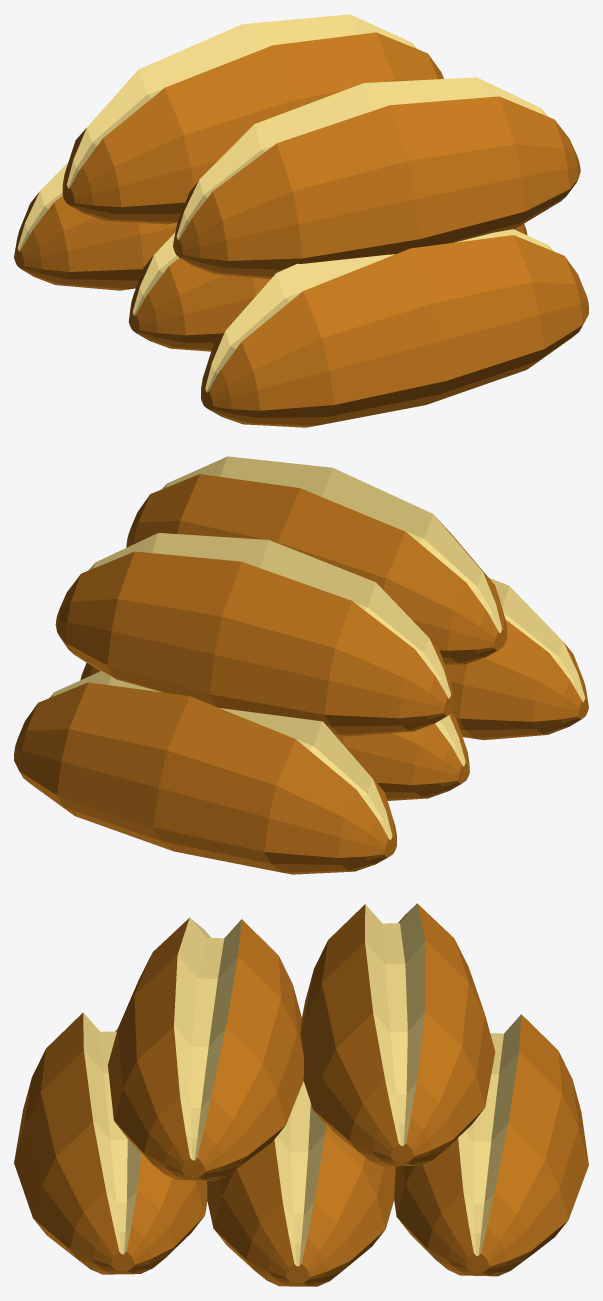
Rendered from SM_Cook_BanhMiPile_01.fbx.
3 views of the same model, one above another, from view 1: azimuth 30°, elevation 25°; view 2: azimuth 150°, elevation 25°; view 3: azimuth 270°, elevation 25° (orthographic). The views are drawn at different scales.
Parts seen in each view (by area): view 1: SM_Cook_BanhMiPile_01; view 2: SM_Cook_BanhMiPile_01; view 3: SM_Cook_BanhMiPile_01.
Boxes of the visible parts, box(x1,y1,x2,y2) form: SM_Cook_BanhMiPile_01: box(14, 14, 588, 427); SM_Cook_BanhMiPile_01: box(14, 456, 588, 874); SM_Cook_BanhMiPile_01: box(14, 903, 588, 1286).
Bounding box in the file's own units: 0.2583 × 0.1554 × 0.3007.
1 material, 1 textured.
